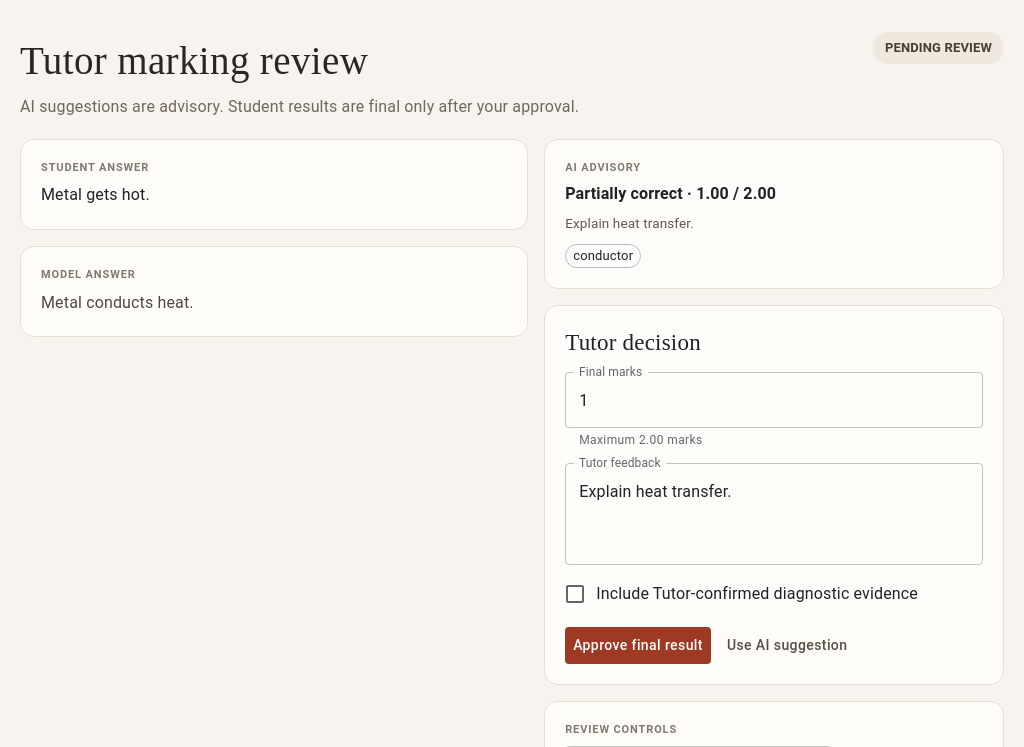
MarkingReview › allows a Tutor to edit and approve an advisory result
This screenshot has width=1024, height=747.
Replace the text in the number field labelled "Final marks" with "2": (774, 400) [565,372,983,428]
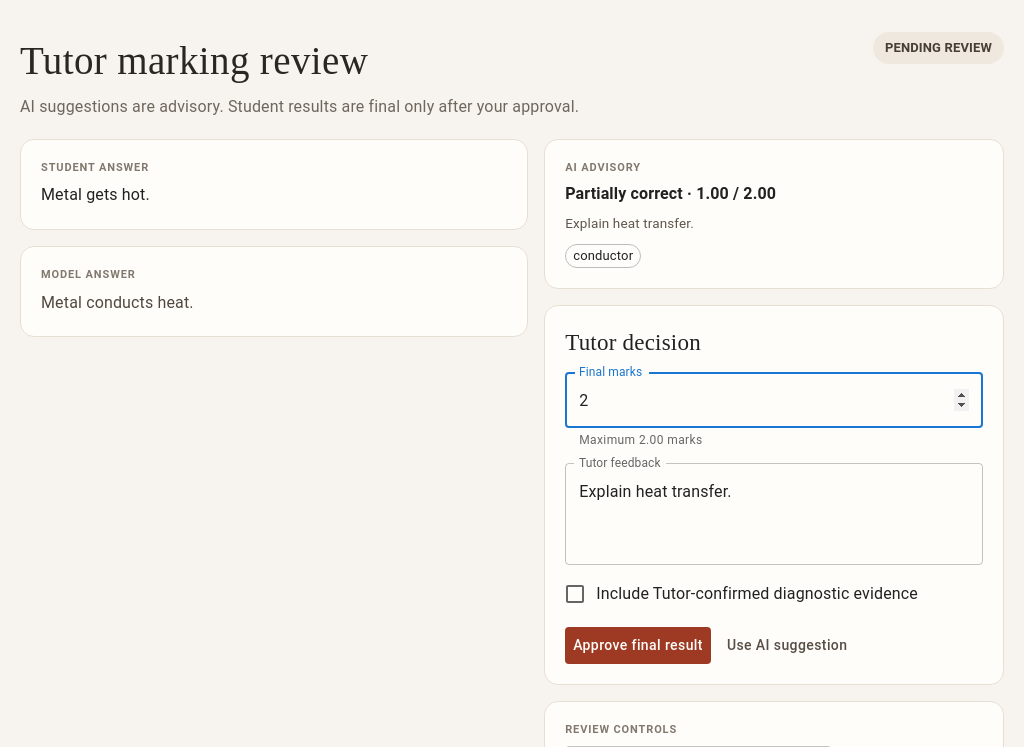
Replace the text in the text box labelled "Tutor feedback" with "Clear explanation.": (774, 514) [579,480,969,549]
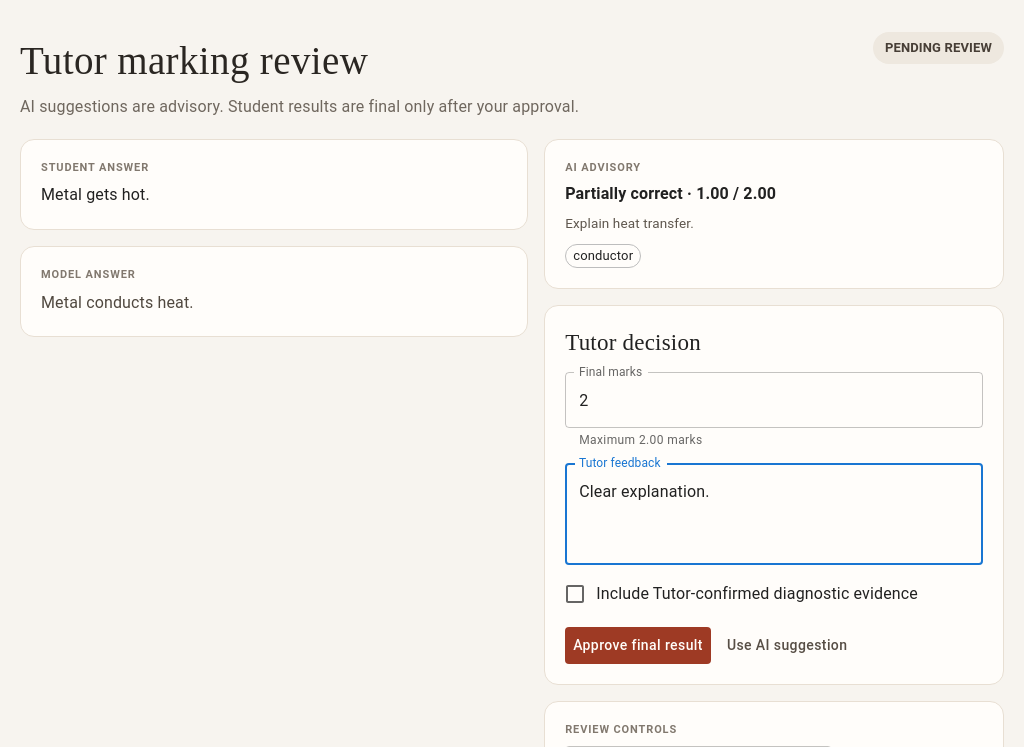
Click the button "Approve final result": (638, 645) [565,627,711,664]
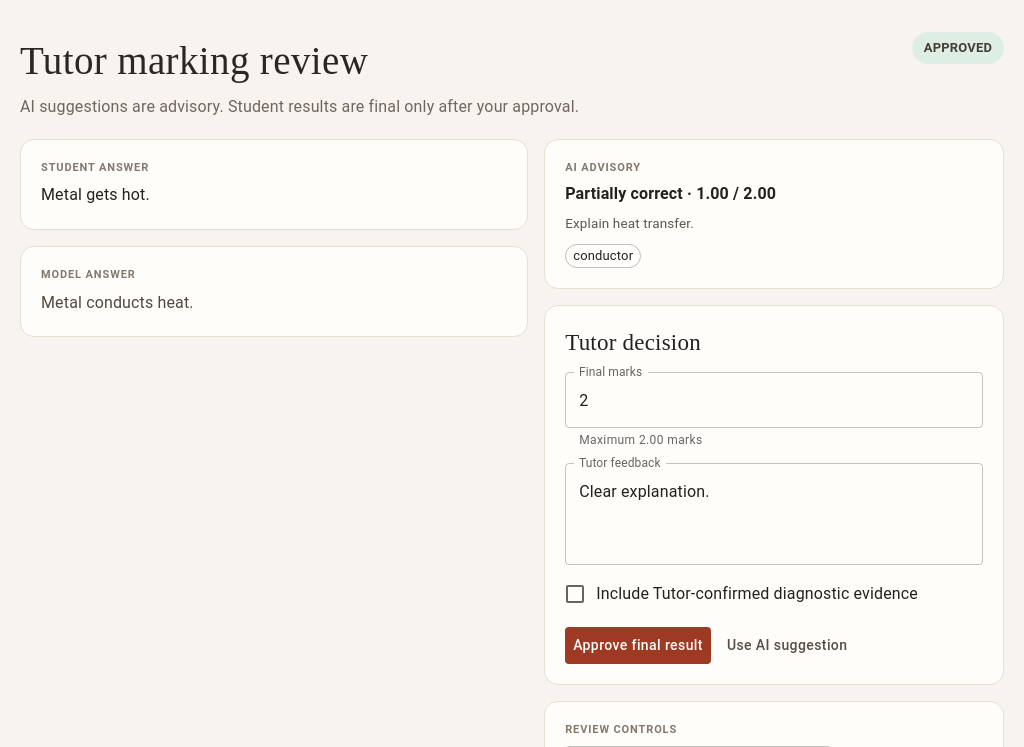
Now the text "APPROVED" is shown, box [924,40,992,55]
